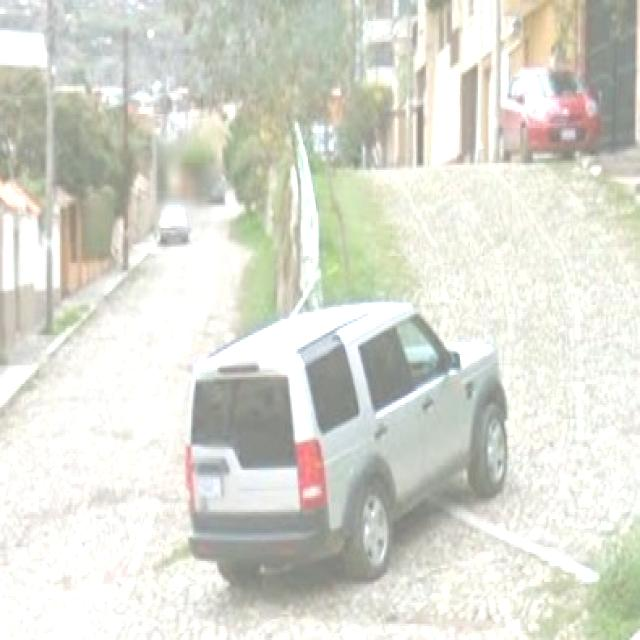car: (190, 309, 511, 587), (500, 63, 605, 163), (157, 199, 194, 242)
